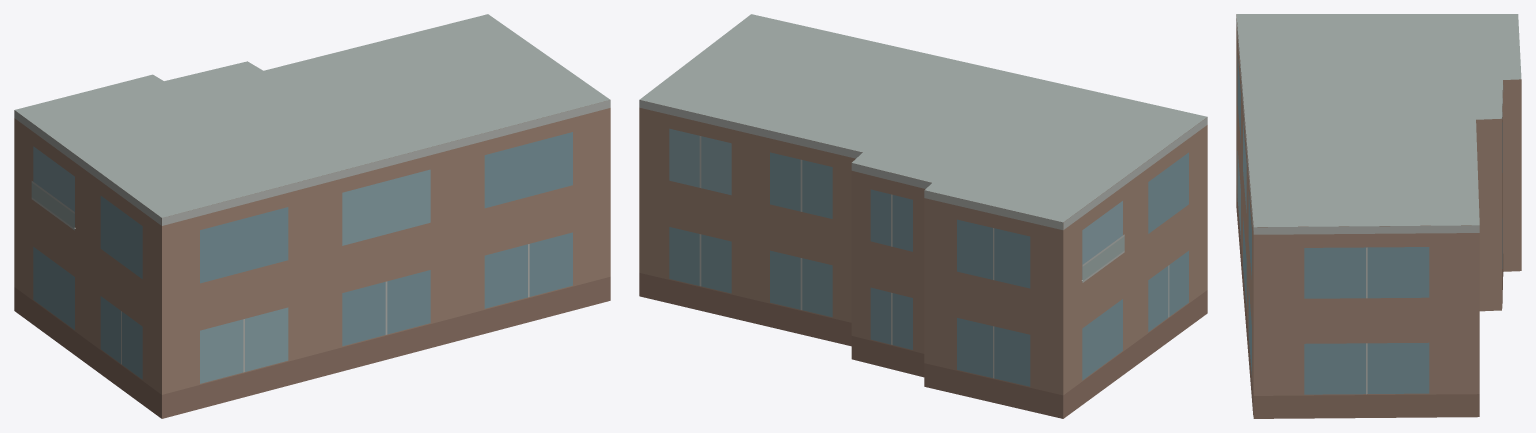
File: survey-upis-32907558.glb
3 renders of one model, left to right at view 1: azimuth 30°, elevation 25°; view 2: azimuth 150°, elevation 25°; view 3: azimuth 270°, elevation 25°, orthographic. The views are drawn at different scales.
Parts seen in each view (by area): view 1: survey-upis-32907558.tmp; view 2: survey-upis-32907558.tmp; view 3: survey-upis-32907558.tmp.
Part boxes in pixels (bbox=[...]): survey-upis-32907558.tmp: bbox=[14, 14, 610, 418]; survey-upis-32907558.tmp: bbox=[639, 14, 1207, 418]; survey-upis-32907558.tmp: bbox=[1236, 14, 1521, 418].
Bounding box in the file's own units: 14.59 × 6.1 × 8.23.
